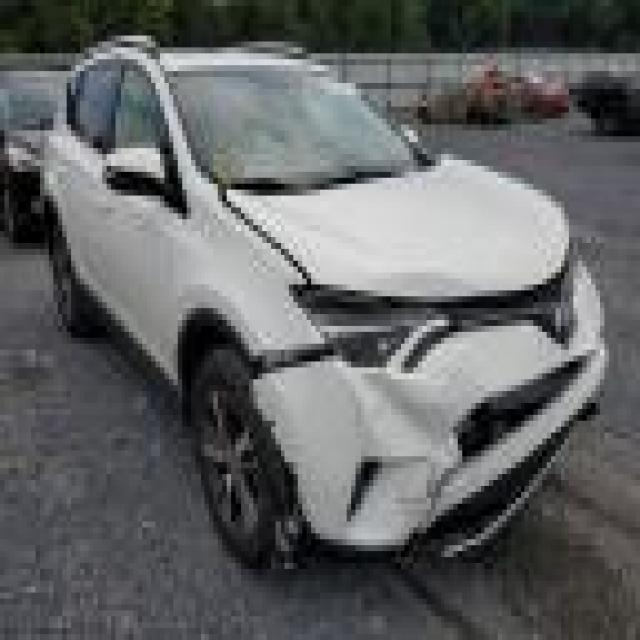moderate: (222, 184, 598, 568)
